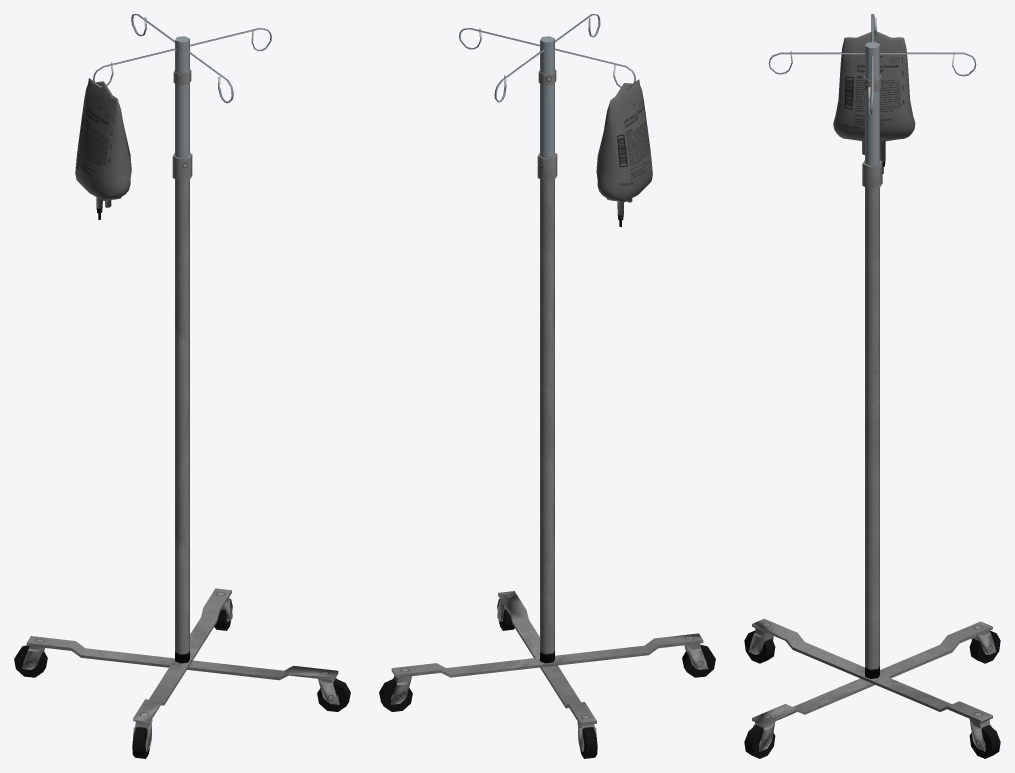
File: iv-pole.glb
3 views of the same model, side by side, from view 1: azimuth 30°, elevation 25°; view 2: azimuth 150°, elevation 25°; view 3: azimuth 270°, elevation 25° (orthographic).
Visible parts, largest first — view 1: IvPole; view 2: IvPole; view 3: IvPole.
Boxes of the visible parts, x1,y1,x2,y2 form: IvPole: (14, 14, 350, 758); IvPole: (379, 14, 715, 758); IvPole: (744, 14, 1000, 758).
Bounding box in the file's own units: 4.18 × 11.92 × 4.18.
1 material, 1 textured.
